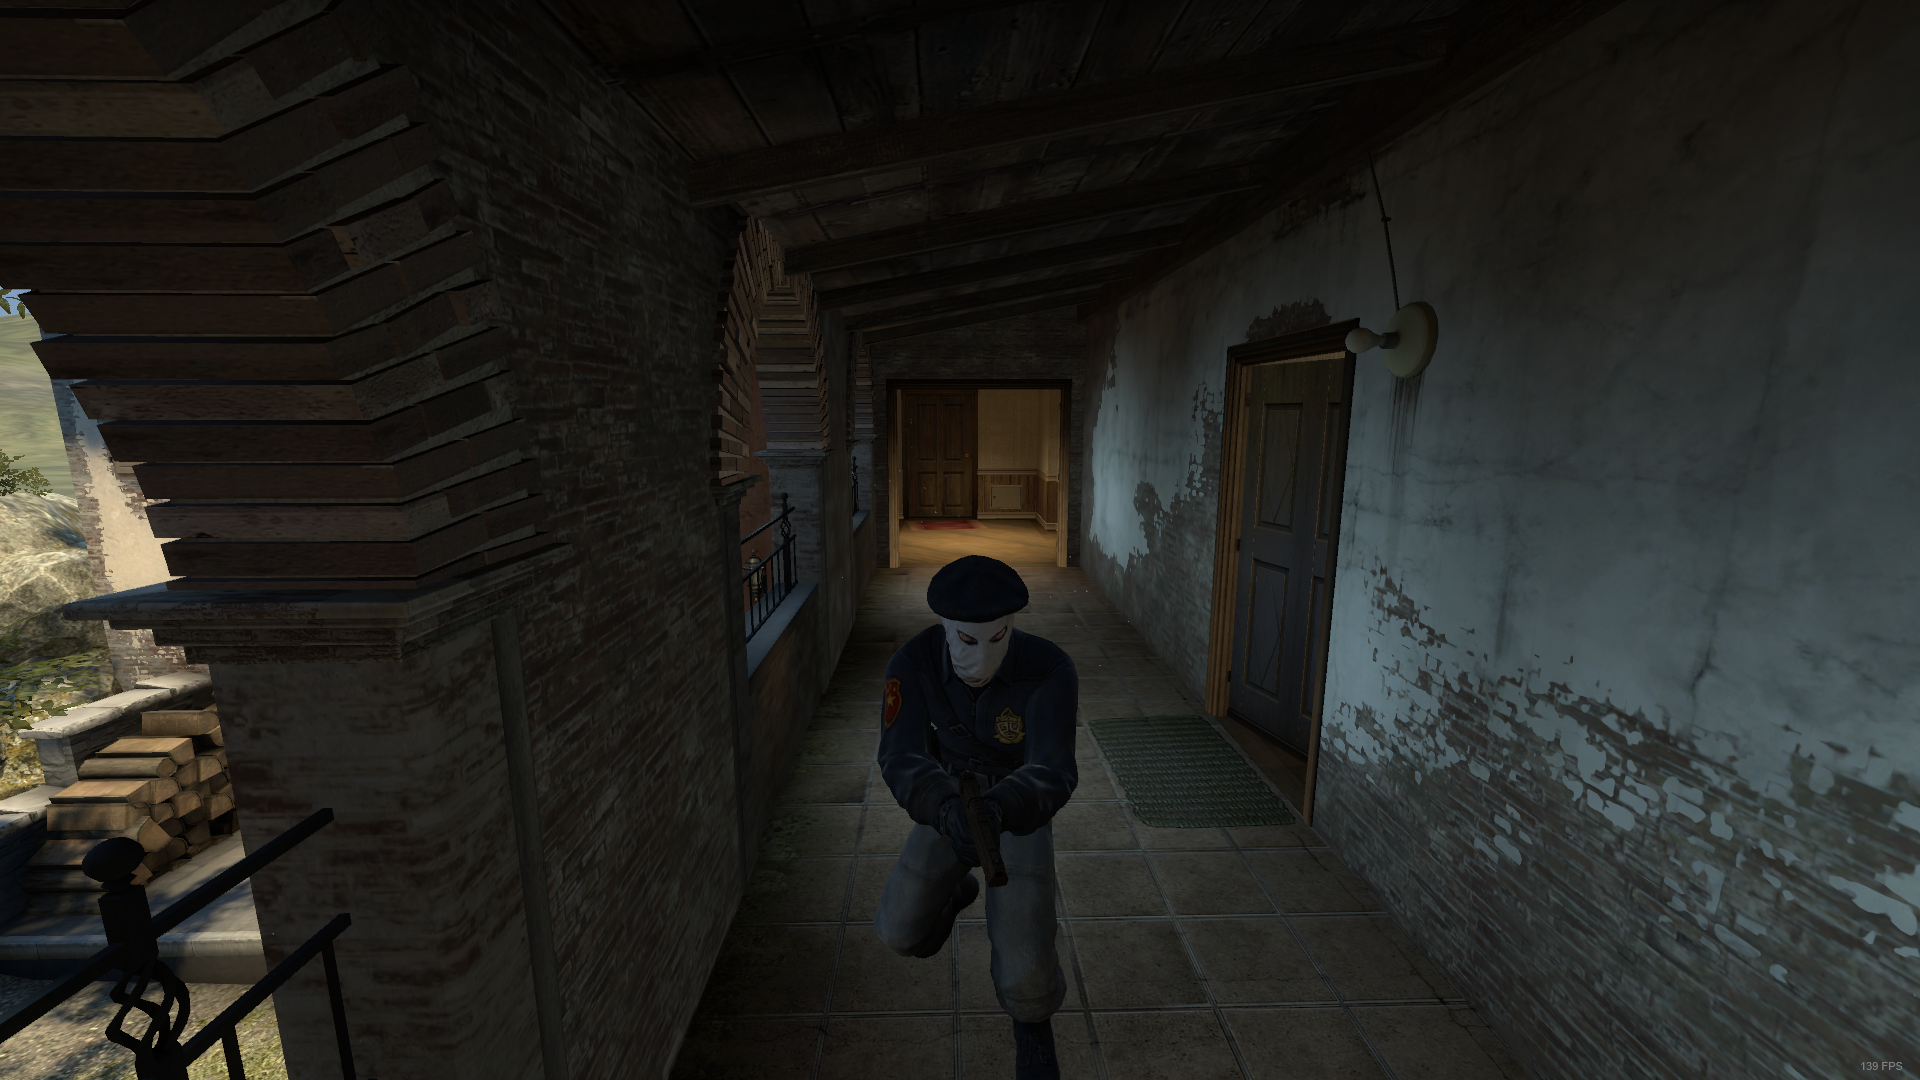t: (856, 549, 1095, 1075)
